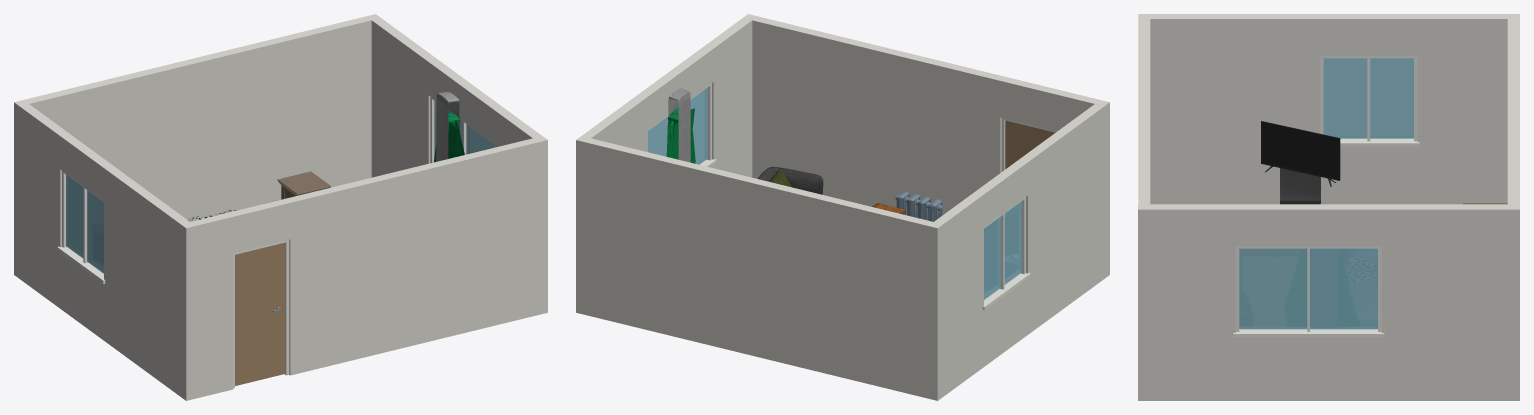
Rendered from layoutvlm.glb.
3 renders of one model, left to right at view 1: azimuth 30°, elevation 25°; view 2: azimuth 150°, elevation 25°; view 3: azimuth 270°, elevation 25°, orthographic. The views are drawn at different scales.
Parts seen in each view (by area): view 1: wall|scenesmith_022__R00|0, wall|scenesmith_022__R00|1, wall|scenesmith_022__R00|2, wall|scenesmith_022__R00|3, wall|scenesmith_022__R00|0 Door 0 | wood leaf, wall|scenesmith_022__R00|2 Window 0 | glazing, scenesmith_022__R00_curtains-0, wall|scenesmith_022__R00|2 Window 0 | jamb, wall|scenesmith_022__R00|0 Door 0 | jamb, raw_model.001, wall|scenesmith_022__R00|3 Window 0 | glazing, wall|scenesmith_022__R00|3 Window 0 | jamb; view 2: wall|scenesmith_022__R00|1, wall|scenesmith_022__R00|0, wall|scenesmith_022__R00|2, wall|scenesmith_022__R00|3, wall|scenesmith_022__R00|2 Window 0 | glazing, scenesmith_022__R00_curtains-0, wall|scenesmith_022__R00|3 Window 0 | glazing, wall|scenesmith_022__R00|0 Door 0 | wood leaf, wall|scenesmith_022__R00|2 Window 0 | jamb, raw_model.004, scenesmith_022__R00_radiator-0, wall|scenesmith_022__R00|3 Window 0 | jamb; view 3: wall|scenesmith_022__R00|3, wall|scenesmith_022__R00|2, wall|scenesmith_022__R00|3 Window 0 | glazing, wall|scenesmith_022__R00|2 Window 0 | glazing, wall|scenesmith_022__R00|0, wall|scenesmith_022__R00|1, scenesmith_022__R00_tv-0, wall|scenesmith_022__R00|3 Window 0 | jamb, wall|scenesmith_022__R00|2 Window 0 | jamb, raw_model.003.
Part boxes in pixels (x1=…): wall|scenesmith_022__R00|0: x1=180, y1=136, x2=547, y2=400; wall|scenesmith_022__R00|1: x1=14, y1=16, x2=371, y2=278; wall|scenesmith_022__R00|2: x1=19, y1=104, x2=189, y2=396; wall|scenesmith_022__R00|3: x1=366, y1=14, x2=547, y2=314; wall|scenesmith_022__R00|0 Door 0 | wood leaf: x1=235, y1=242, x2=285, y2=385; wall|scenesmith_022__R00|2 Window 0 | glazing: x1=66, y1=175, x2=103, y2=273; scenesmith_022__R00_curtains-0: x1=433, y1=91, x2=464, y2=162; wall|scenesmith_022__R00|2 Window 0 | jamb: x1=57, y1=171, x2=105, y2=283; wall|scenesmith_022__R00|0 Door 0 | jamb: x1=233, y1=240, x2=289, y2=388; raw_model.001: x1=277, y1=171, x2=330, y2=199; wall|scenesmith_022__R00|3 Window 0 | glazing: x1=434, y1=101, x2=494, y2=156; wall|scenesmith_022__R00|3 Window 0 | jamb: x1=430, y1=96, x2=494, y2=163; wall|scenesmith_022__R00|1: x1=576, y1=138, x2=943, y2=400; wall|scenesmith_022__R00|0: x1=743, y1=14, x2=1109, y2=278; wall|scenesmith_022__R00|2: x1=928, y1=104, x2=1104, y2=396; wall|scenesmith_022__R00|3: x1=576, y1=18, x2=752, y2=177; wall|scenesmith_022__R00|2 Window 0 | glazing: x1=984, y1=201, x2=1021, y2=299; scenesmith_022__R00_curtains-0: x1=666, y1=88, x2=695, y2=163; wall|scenesmith_022__R00|3 Window 0 | glazing: x1=648, y1=87, x2=707, y2=164; wall|scenesmith_022__R00|0 Door 0 | wood leaf: x1=1005, y1=120, x2=1055, y2=169; wall|scenesmith_022__R00|2 Window 0 | jamb: x1=982, y1=197, x2=1030, y2=310; raw_model.004: x1=758, y1=166, x2=823, y2=194; scenesmith_022__R00_radiator-0: x1=894, y1=191, x2=944, y2=221; wall|scenesmith_022__R00|3 Window 0 | jamb: x1=648, y1=83, x2=716, y2=167; wall|scenesmith_022__R00|3: x1=1138, y1=204, x2=1519, y2=400; wall|scenesmith_022__R00|2: x1=1150, y1=14, x2=1517, y2=204; wall|scenesmith_022__R00|3 Window 0 | glazing: x1=1239, y1=248, x2=1377, y2=329; wall|scenesmith_022__R00|2 Window 0 | glazing: x1=1323, y1=58, x2=1413, y2=138; wall|scenesmith_022__R00|0: x1=1138, y1=14, x2=1150, y2=400; wall|scenesmith_022__R00|1: x1=1507, y1=14, x2=1519, y2=400; scenesmith_022__R00_tv-0: x1=1261, y1=121, x2=1340, y2=186; wall|scenesmith_022__R00|3 Window 0 | jamb: x1=1233, y1=246, x2=1384, y2=337; wall|scenesmith_022__R00|2 Window 0 | jamb: x1=1320, y1=56, x2=1419, y2=147; raw_model.003: x1=1280, y1=168, x2=1320, y2=204.
Size of the model in its own units: 5.76 by 2.61 by 4.7.
14 materials, 7 textured.
